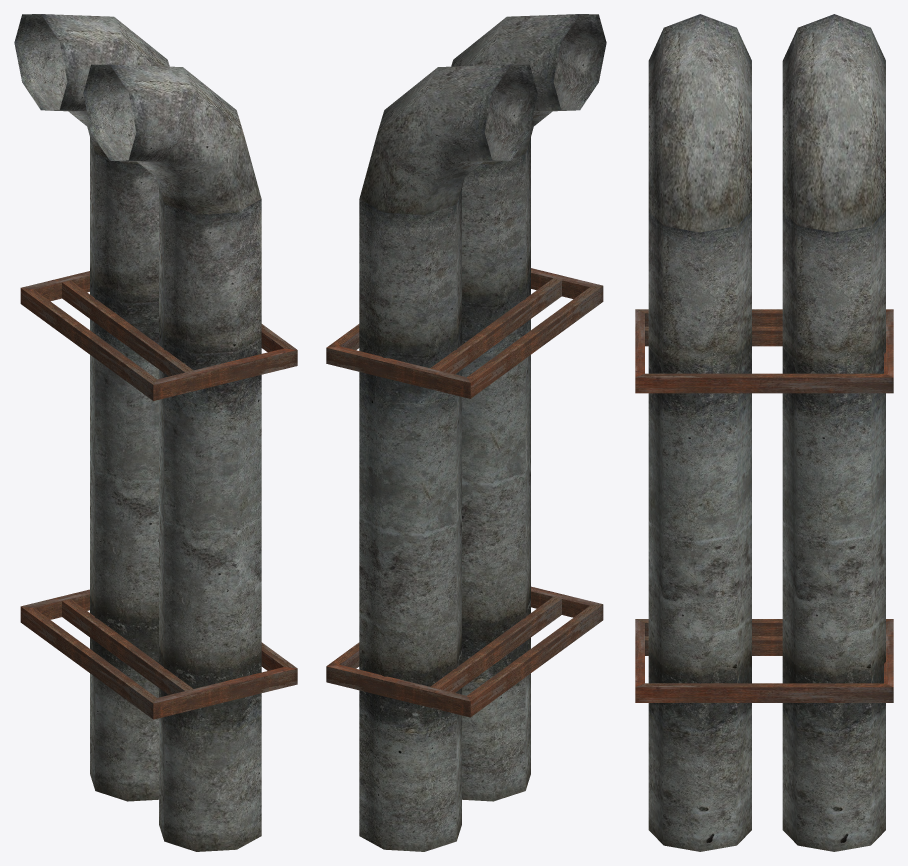
File: Pipes_set_v1_V_set_v2 (6).glb
3 views of the same model, side by side, from view 1: azimuth 30°, elevation 25°; view 2: azimuth 150°, elevation 25°; view 3: azimuth 270°, elevation 25° (orthographic). The views are drawn at different scales.
Parts seen in each view (by area): view 1: Pipes_set_v1_V_set_v2 (6); view 2: Pipes_set_v1_V_set_v2 (6); view 3: Pipes_set_v1_V_set_v2 (6).
Boxes of the visible parts, x1=… form: Pipes_set_v1_V_set_v2 (6): x1=14, y1=14, x2=297, y2=851; Pipes_set_v1_V_set_v2 (6): x1=326, y1=14, x2=606, y2=851; Pipes_set_v1_V_set_v2 (6): x1=635, y1=14, x2=893, y2=851.
Size of the model in its own units: 1.16 by 5.69 by 1.73.
Materials: 1 (1 with a texture image).
